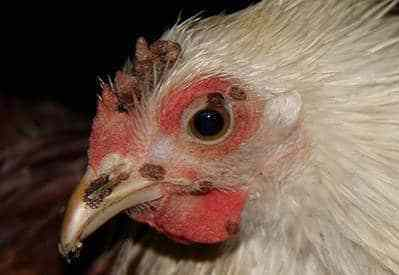fowl-pox: (56, 4, 395, 275)
